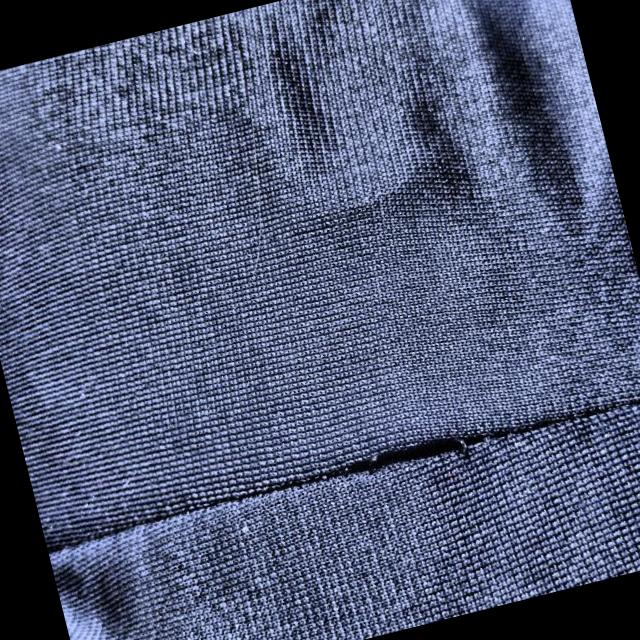gray stitch: (323, 389, 510, 509)
